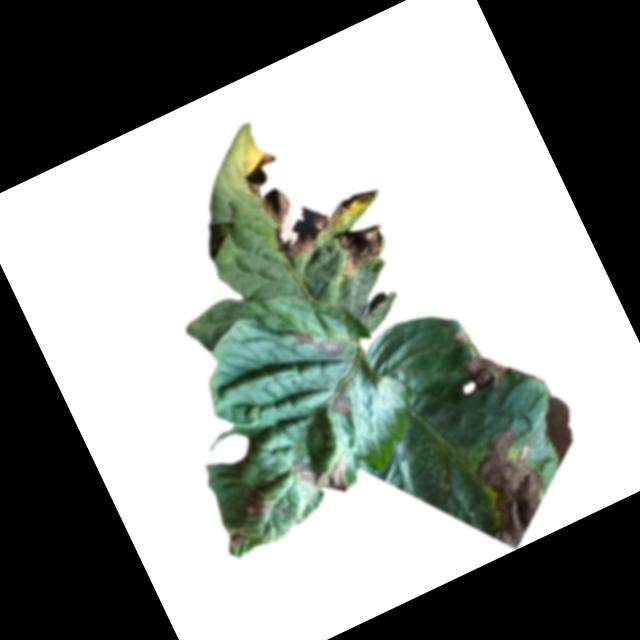Early_blight: (229, 107, 389, 265), (455, 419, 566, 555), (324, 214, 395, 280), (292, 442, 357, 507), (454, 338, 515, 398), (289, 313, 348, 369), (235, 487, 274, 526), (325, 386, 355, 419), (226, 527, 247, 547)
